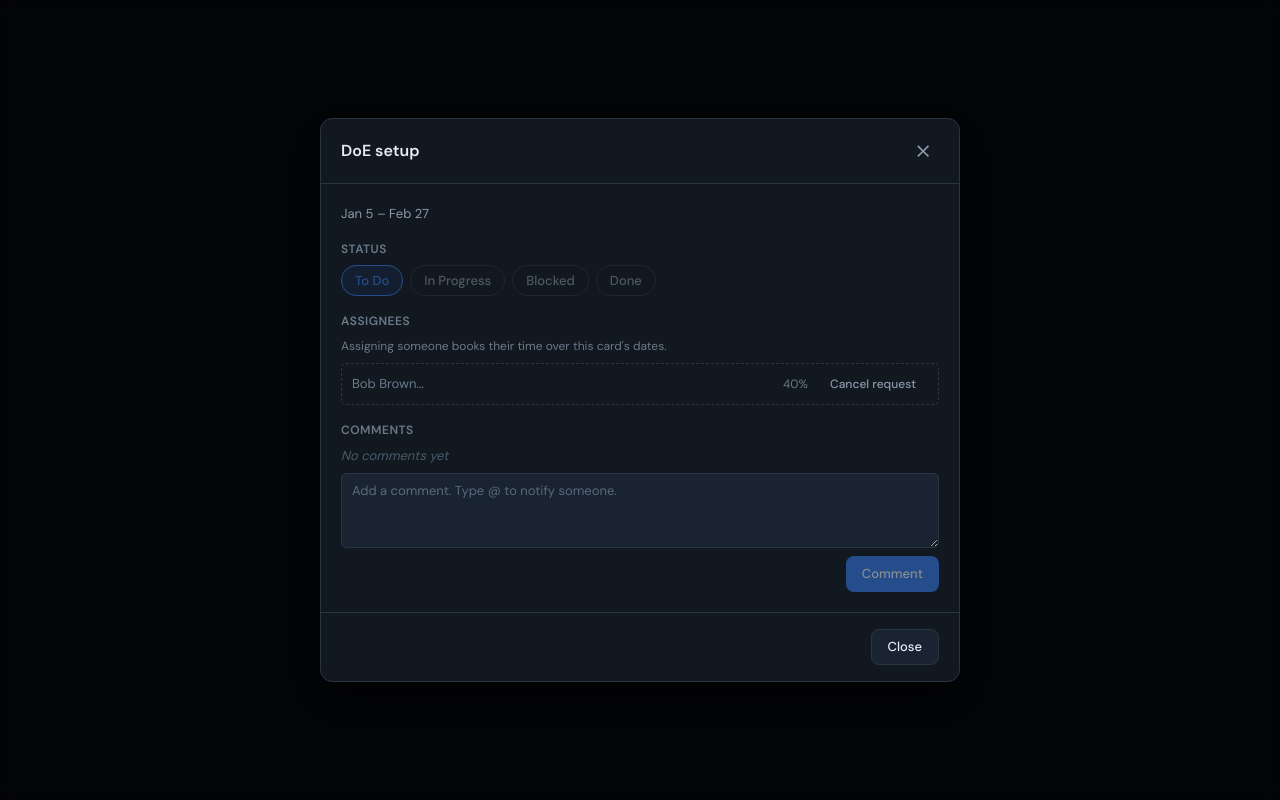
Test: KanbanCardModal pending rows › shows a failed cancel in the dialog
The width and height of the screenshot is (1280, 800).
Step 1. Click the button "Cancel request" → coordinates (873, 384), box [818,370,928,398]
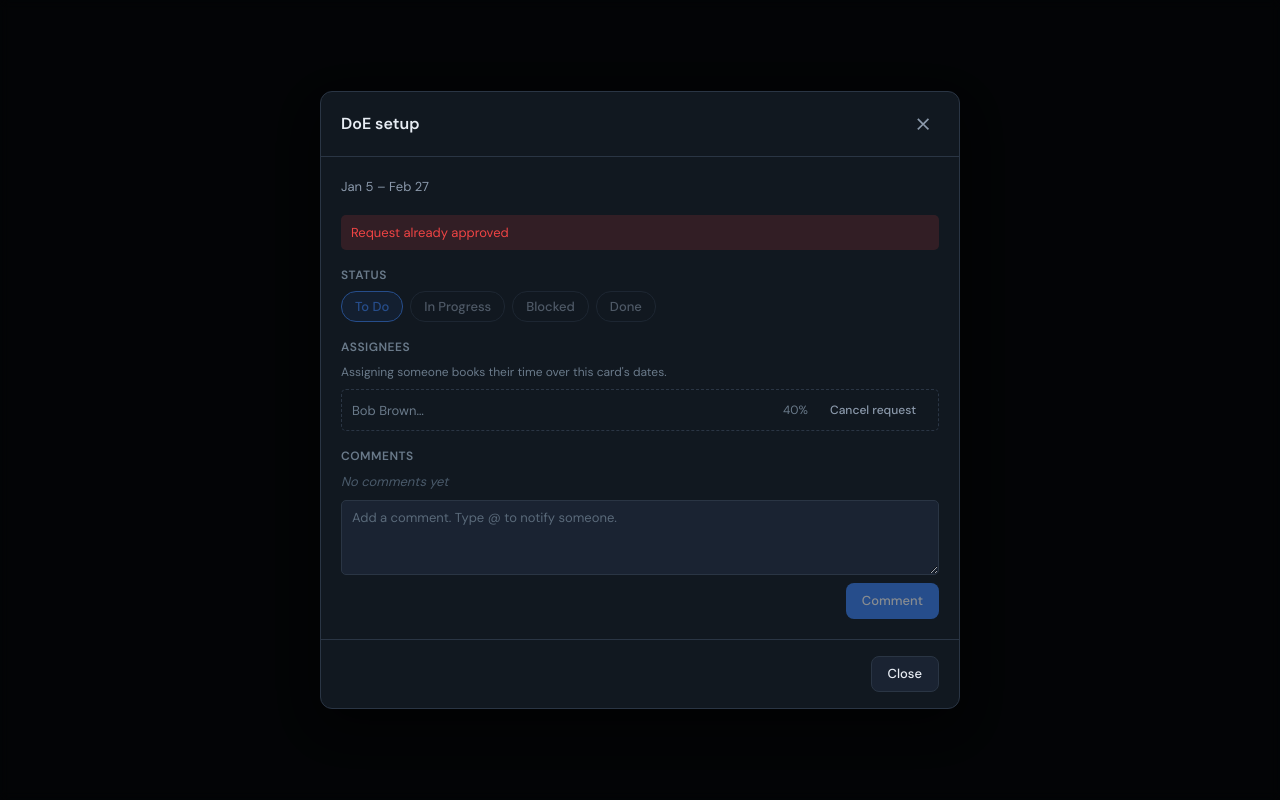
Result: the text "Request already approved" is shown at [341,215,939,250]
